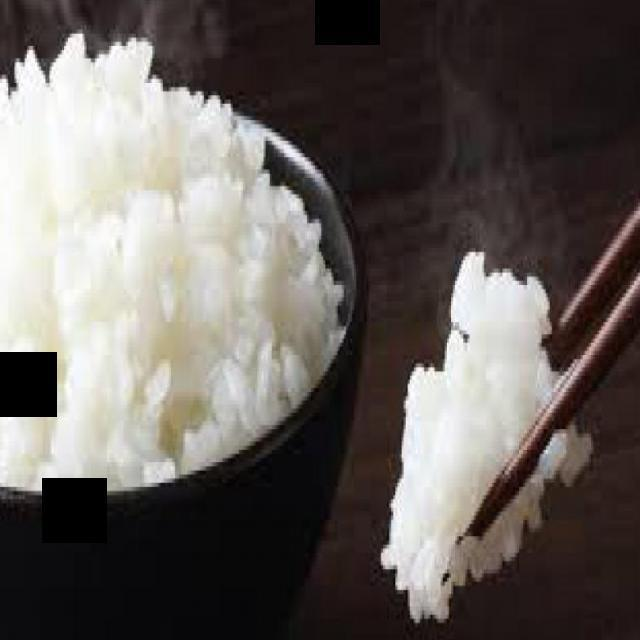Chicken -Chicken Inasal-: (0, 35, 335, 492), (384, 256, 584, 621)
